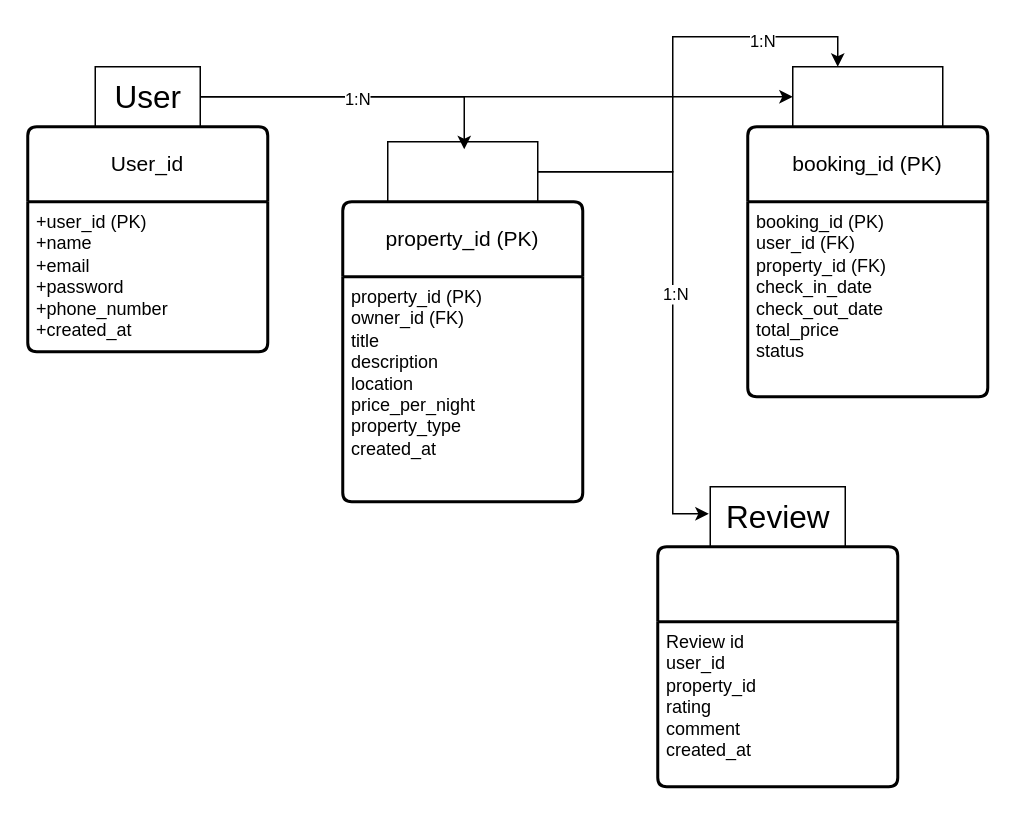
Image size: 1014x815. Some labels were removed from this diagram. The shapes that lost their labels are listed below. From the top down, each one's box as (x1, y1, x2, y2) in pixels, then its label:
(791, 65, 943, 127): Booking
(386, 140, 538, 202): Property
(656, 544, 898, 788): review_id (PK)
